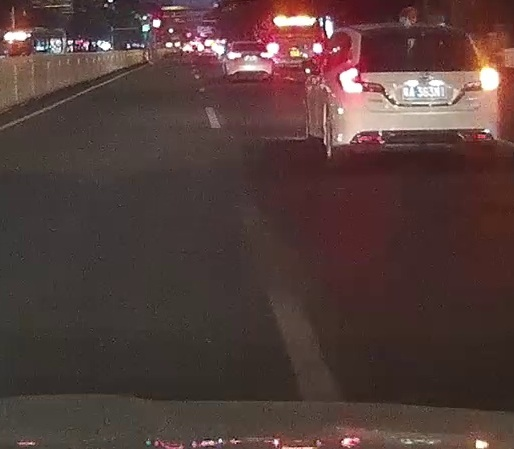L_light: (339, 81, 384, 93), (227, 52, 242, 60)
R_light: (461, 80, 497, 91), (259, 52, 273, 59)
T_light: (411, 27, 424, 33), (246, 43, 253, 46)
night-no: (336, 23, 500, 168), (227, 41, 273, 83)
